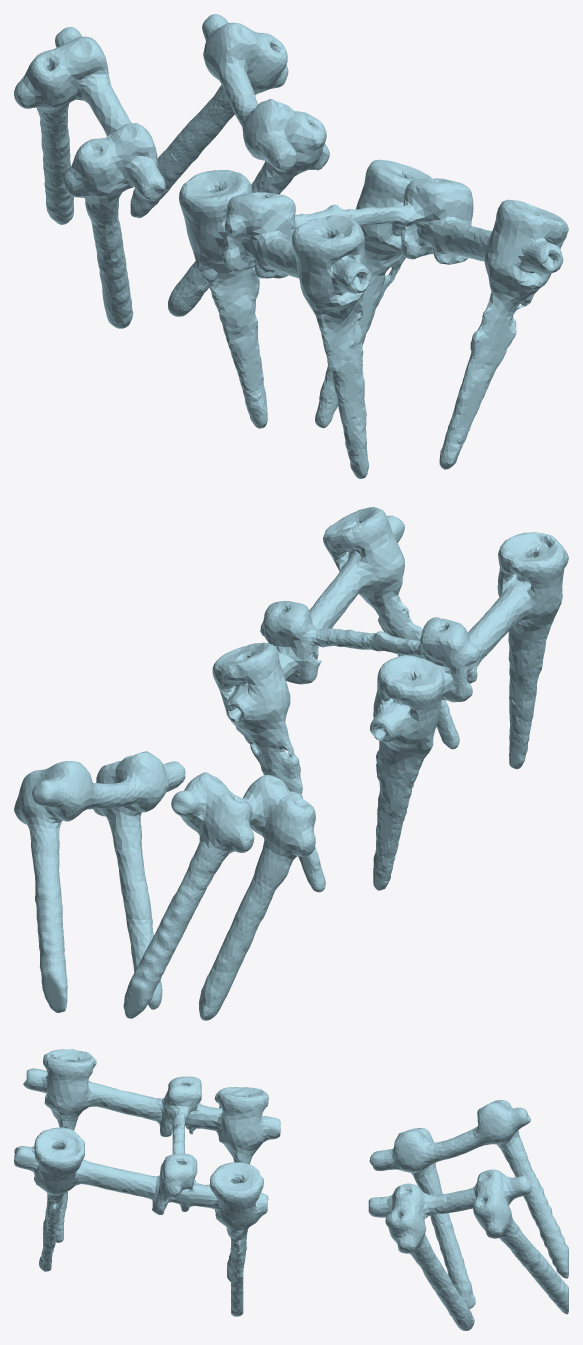
The model's file is metal.obj.
The picture shows the model from 3 angles, top to bottom: view 1: azimuth 30°, elevation 25°; view 2: azimuth 150°, elevation 25°; view 3: azimuth 270°, elevation 25°; orthographic projection. The views are drawn at different scales.
Parts seen in each view (by area): view 1: grp1; view 2: grp1; view 3: grp1.
Boxes of the visible parts, left/top/right/bottom form: grp1: left=14, top=14, right=568, bottom=478; grp1: left=14, top=507, right=568, bottom=1020; grp1: left=14, top=1049, right=568, bottom=1330.
Bounding box in the file's own units: 70.78 × 76.87 × 166.
